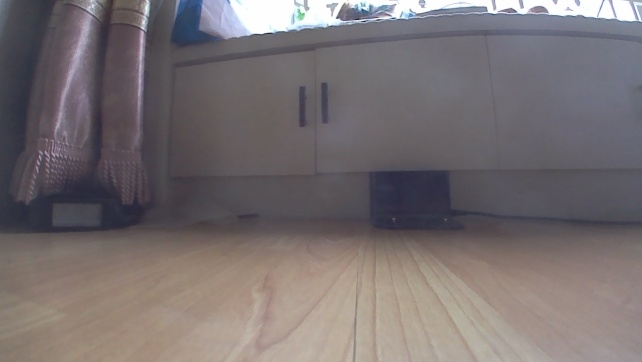charger: (368, 168, 466, 230)
wire: (451, 206, 641, 227)
